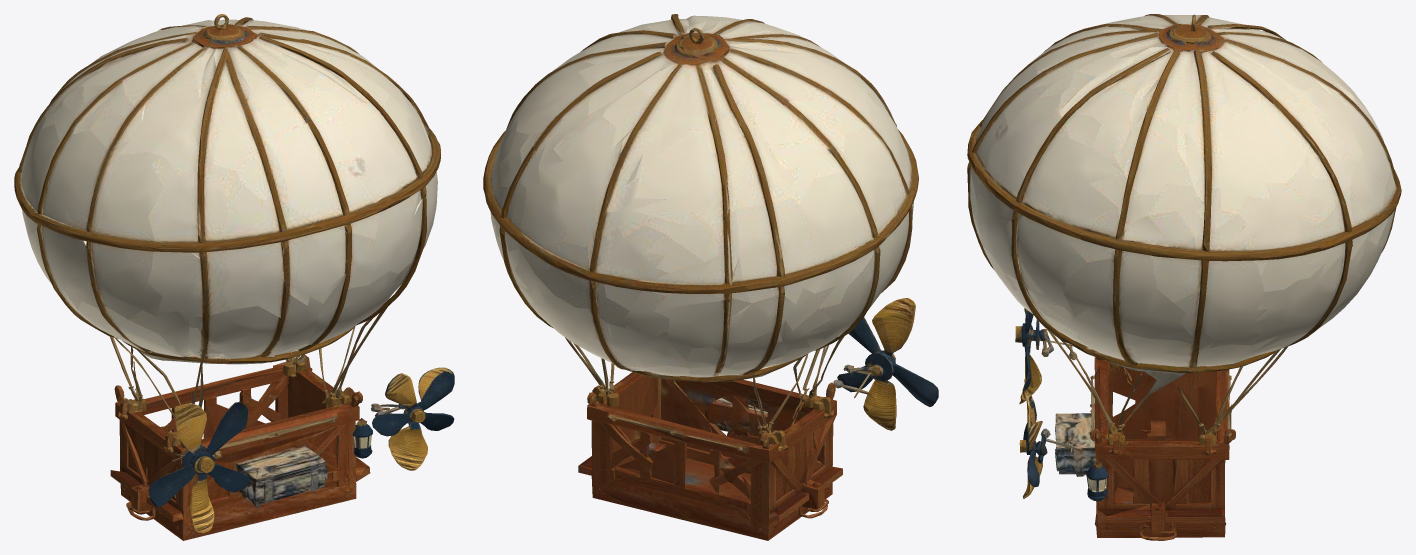
The model's file is airship.glb.
The picture shows the model from 3 angles, left to right: view 1: azimuth 30°, elevation 25°; view 2: azimuth 150°, elevation 25°; view 3: azimuth 270°, elevation 25°; orthographic projection.
Visible parts, largest first — view 1: Mesh_0; view 2: Mesh_0; view 3: Mesh_0.
Part boxes in pixels (x1,y1,x2,y2): Mesh_0: (14,14,454,540); Mesh_0: (483,14,938,540); Mesh_0: (967,14,1401,540).
Size of the model in its own units: 1.57 by 1.9 by 1.56.
Materials: 1 (1 with a texture image).
